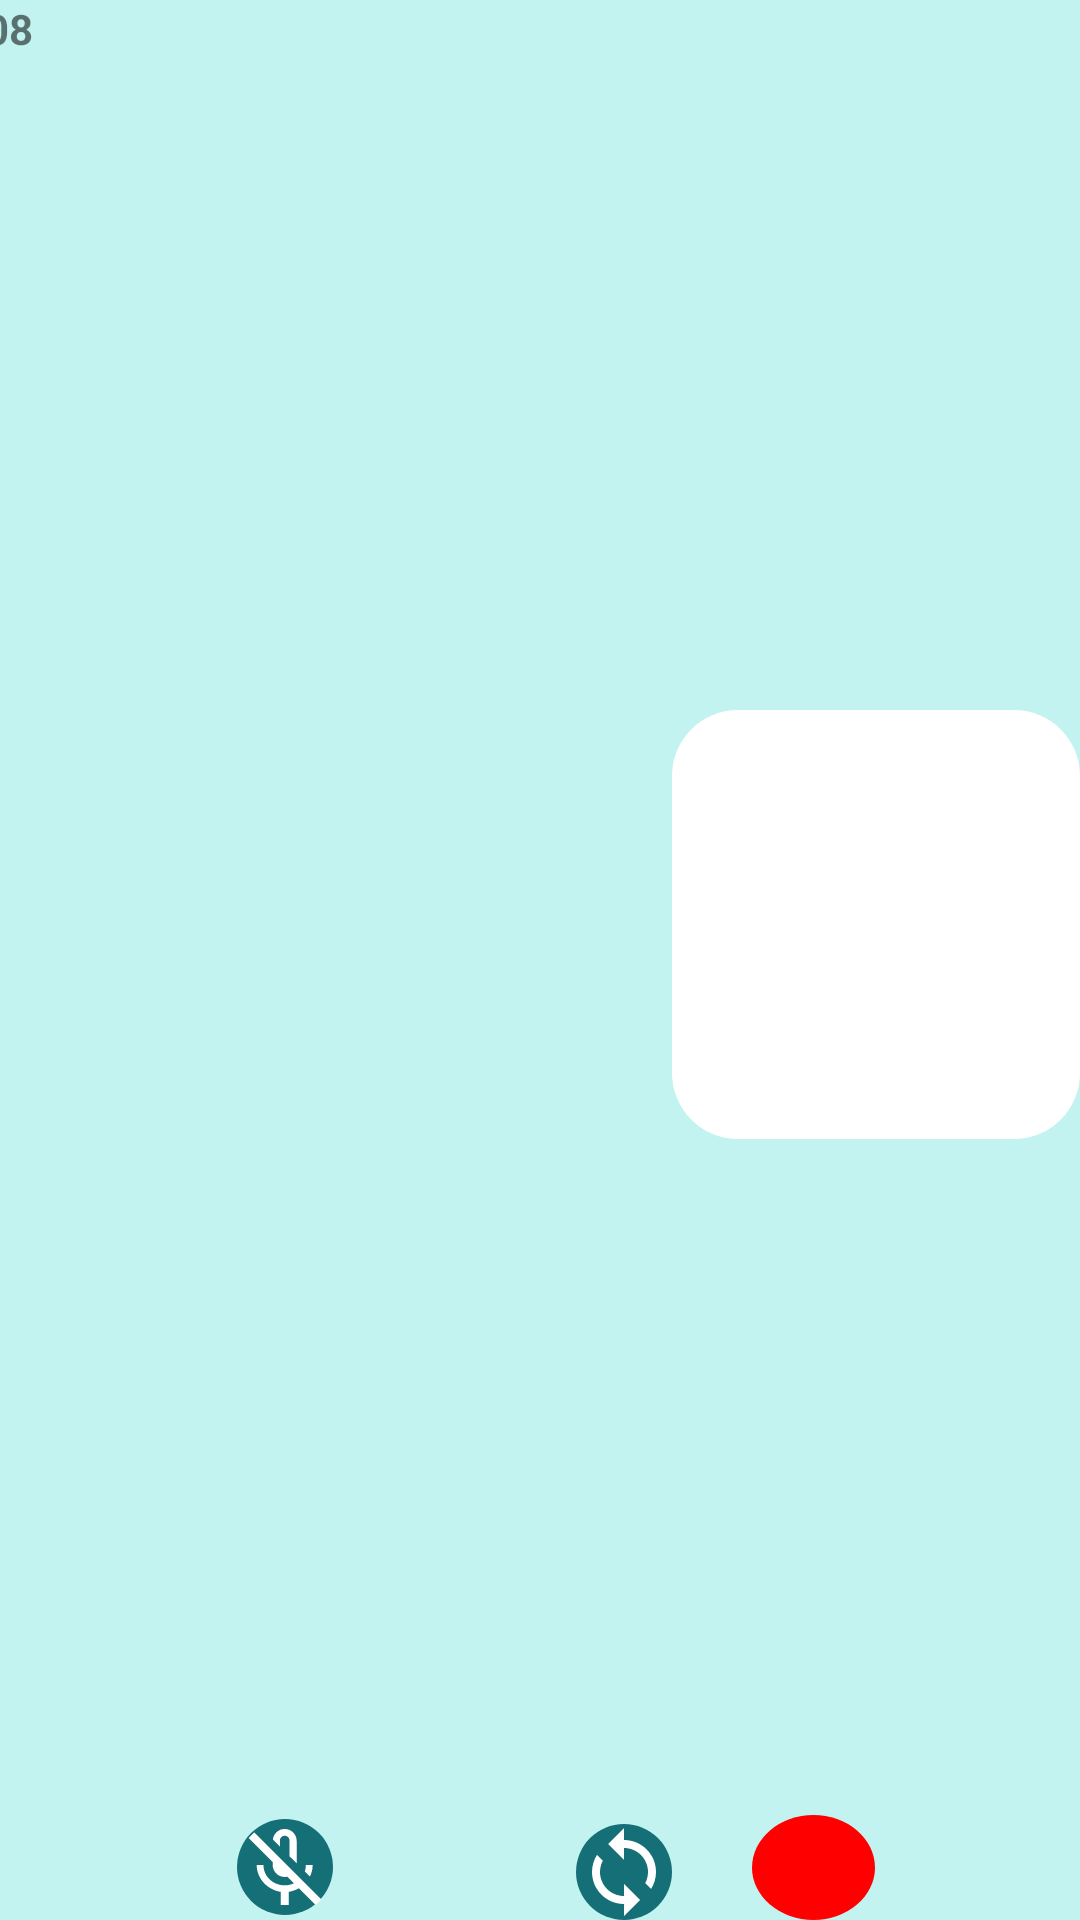

Named icons in this screenshot (1080x1920) and their bounding boxes, Rect(x1, y1, x2, y2):
loop: Rect(576, 1824, 672, 1920)
mic off: Rect(237, 1819, 333, 1915)
